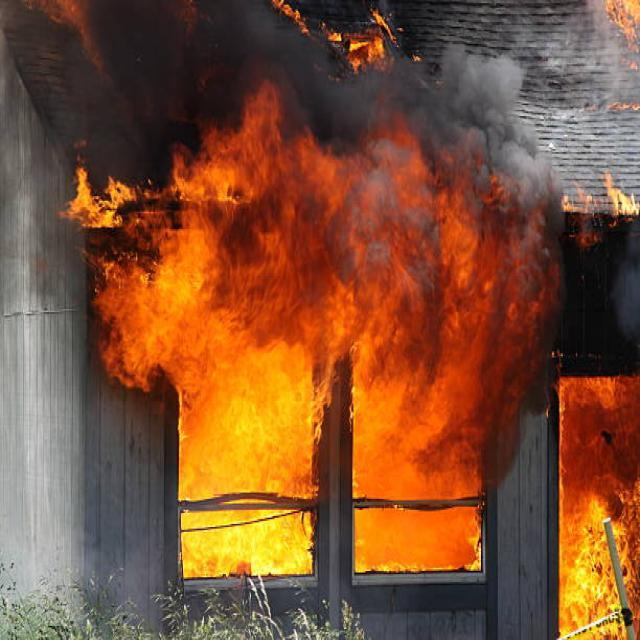Fire: (119, 127, 548, 610), (554, 360, 640, 624)
Smoke: (37, 0, 592, 277)
